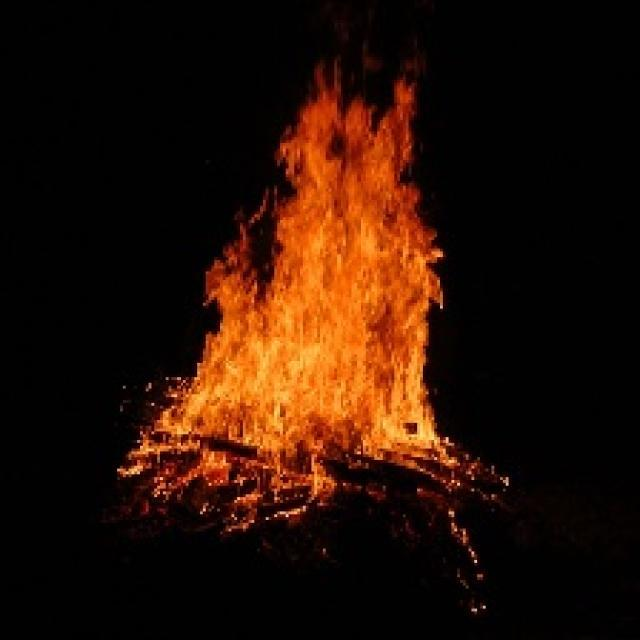Fire: (185, 64, 444, 452)
